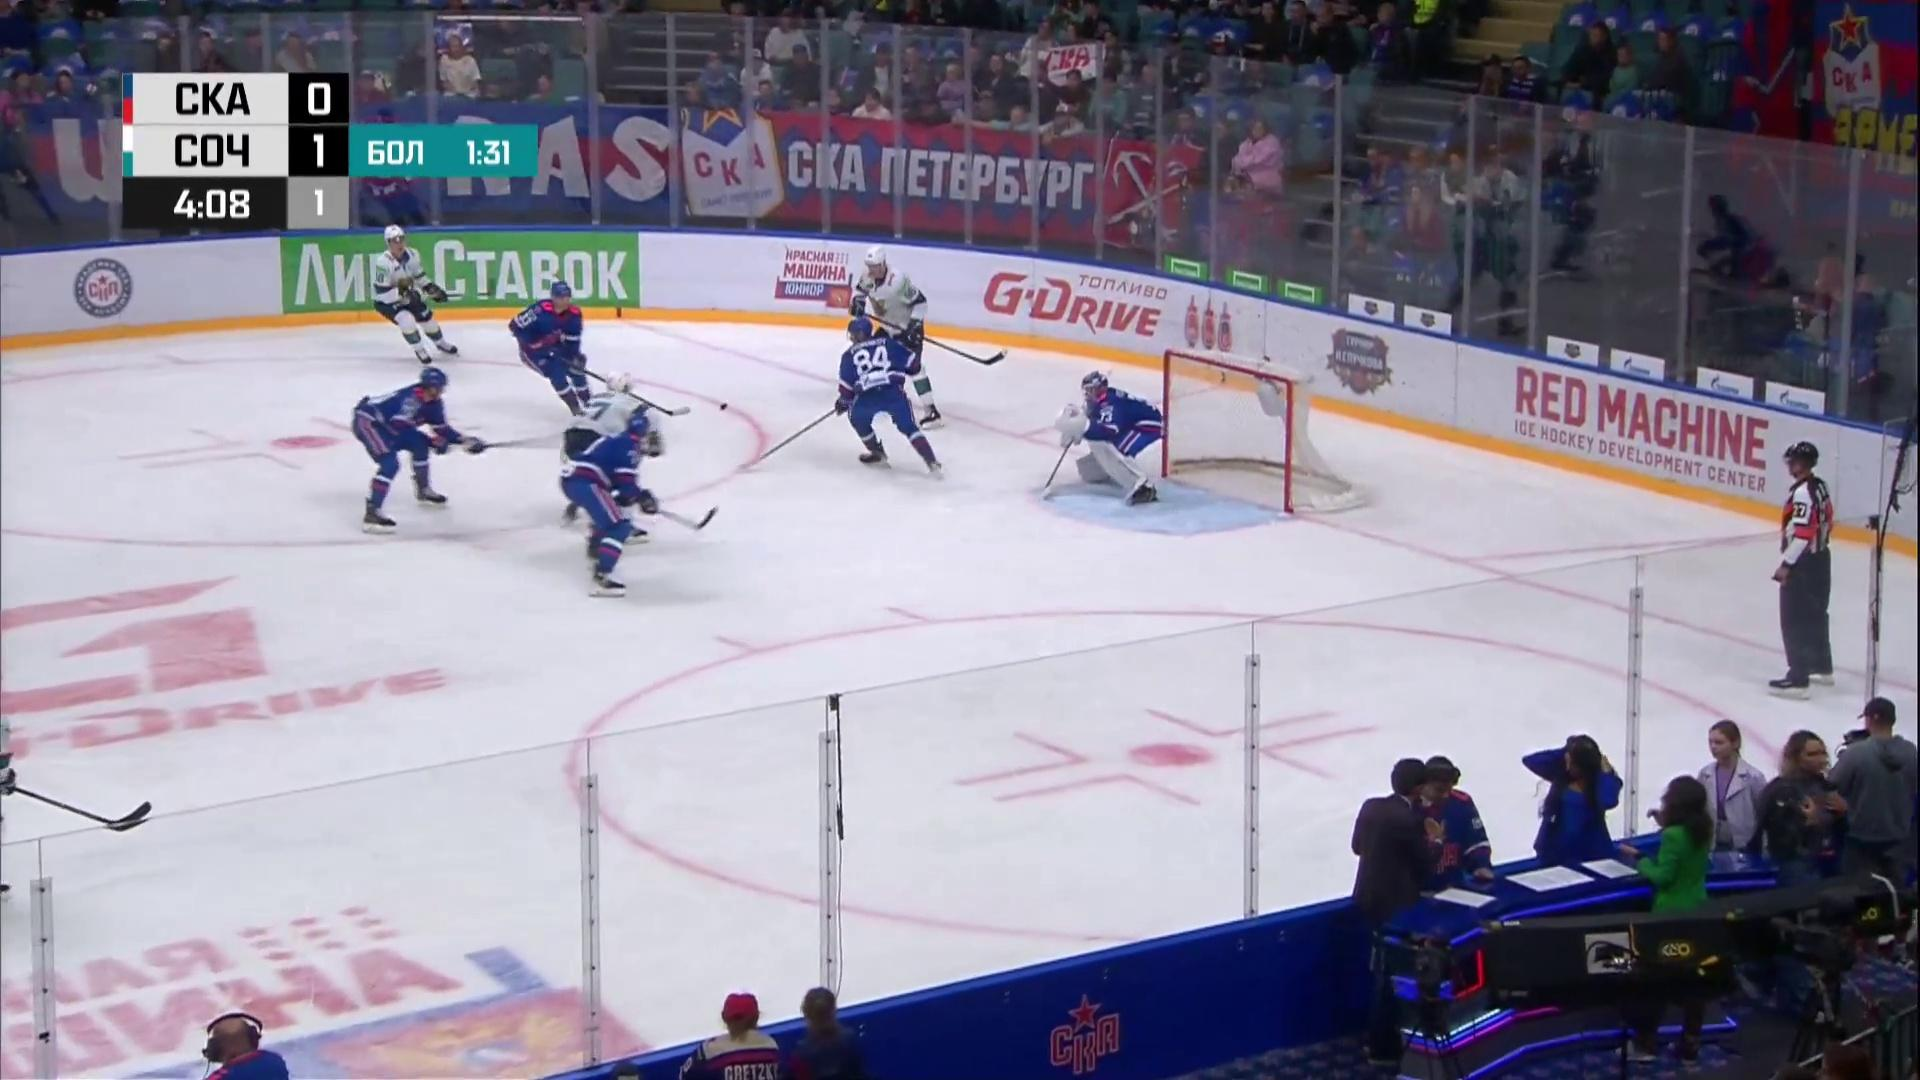ball: (720, 404, 728, 411)
